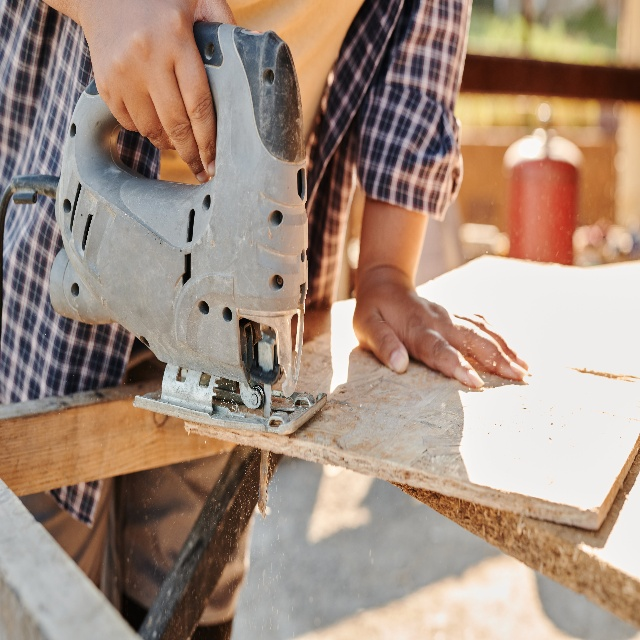Sin_guantes: (85, 1, 237, 186), (354, 254, 528, 387)
